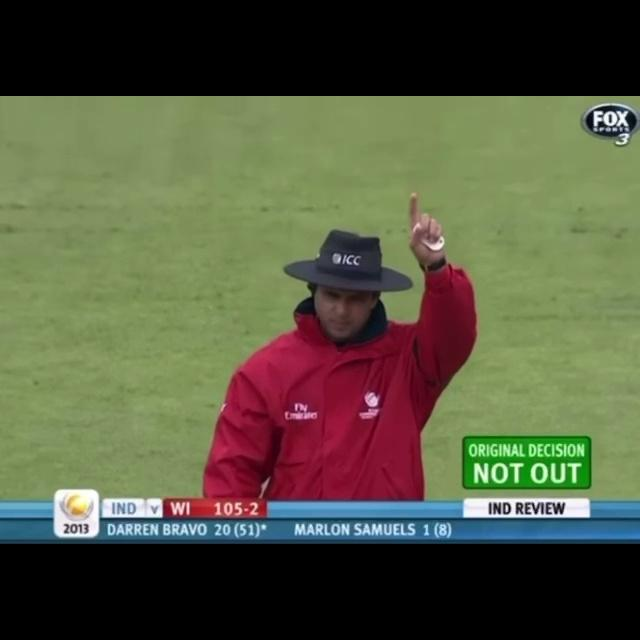umpire: (192, 164, 492, 500)
